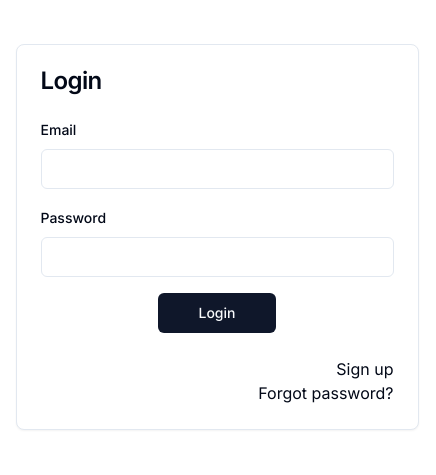
Test case: Login Page › Displays errors when the login is invalid
The width and height of the screenshot is (436, 475).
// Simulate user input
In the field labelled "Email": coordinates (217, 169) 40,149 -> 394,189, type "test@example.com"
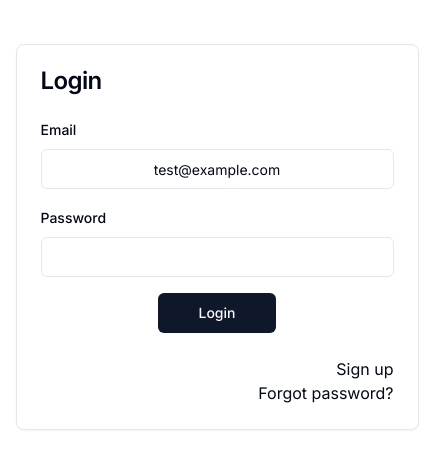
In the password field labelled "Password": coordinates (217, 257) 40,237 -> 394,277, type "password123"
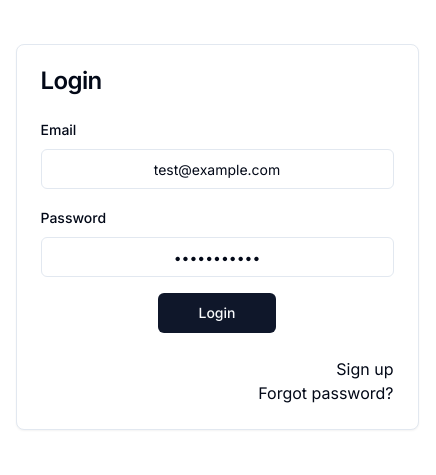
// Submit the form
Click the button "Login": coordinates (217, 313) 158,293 -> 276,333
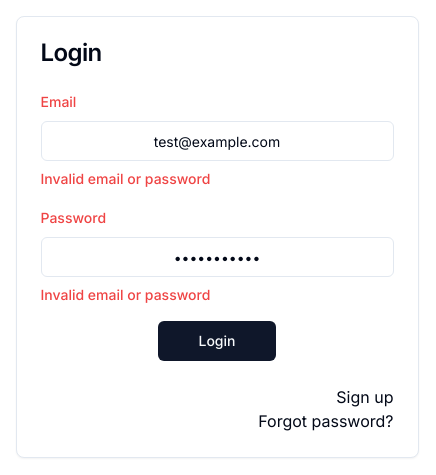
Check: the text "Invalid email or password" is shown 2 times, box 40,170 -> 210,187; 40,286 -> 210,303
